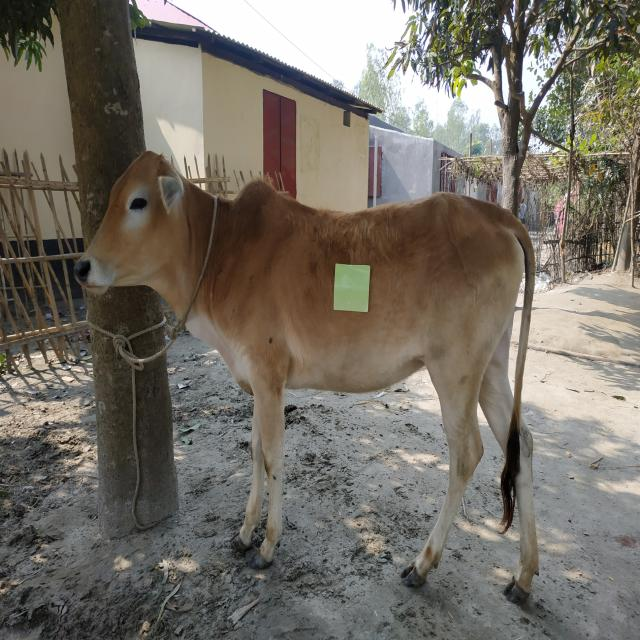badan_sapi: (252, 206, 499, 400)
sapi: (74, 140, 562, 612)
